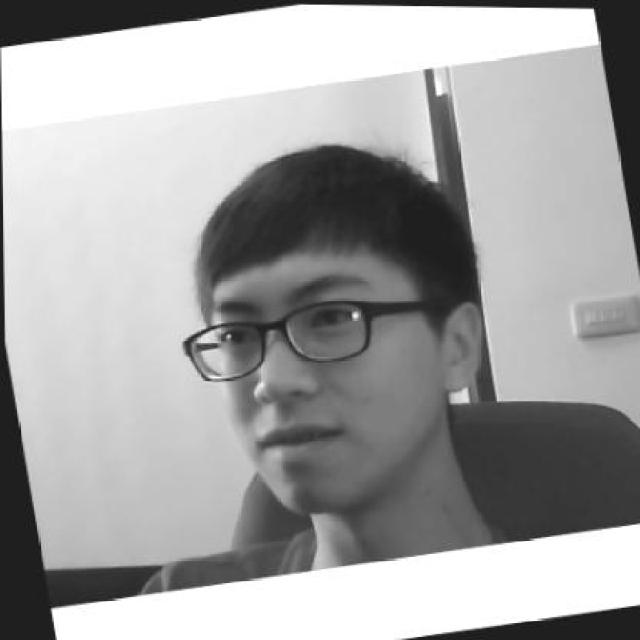attentif: (150, 118, 507, 531)
